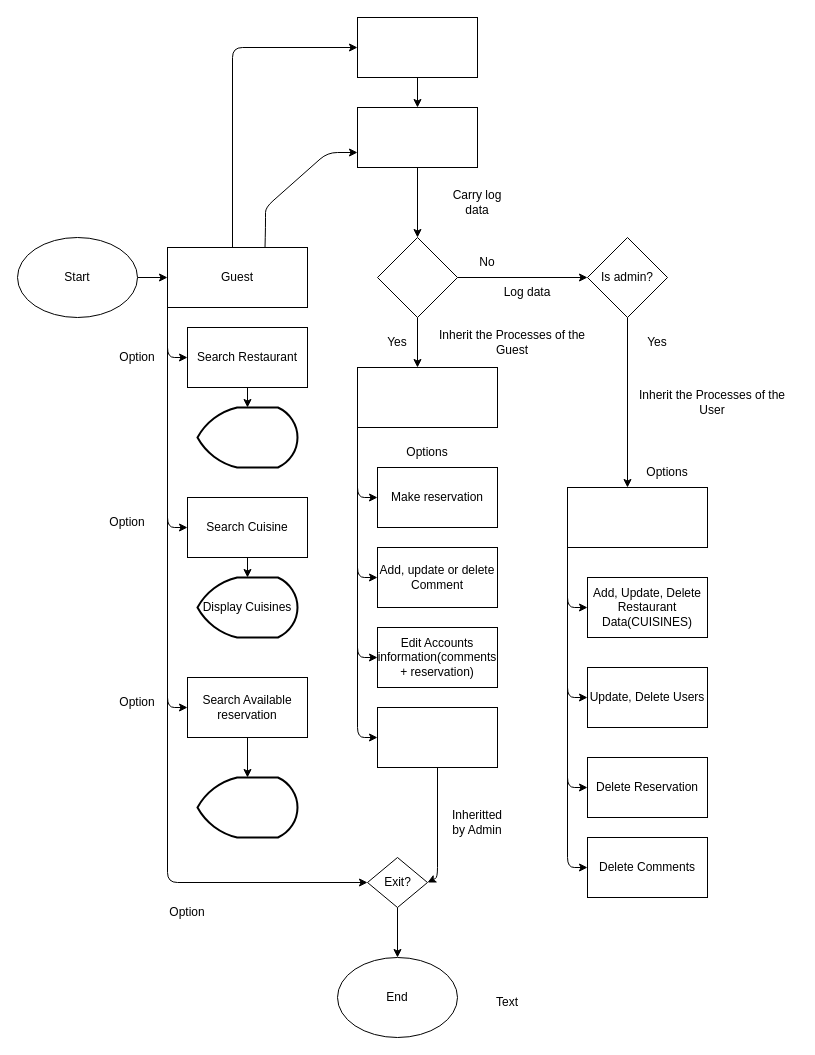
The diagram is 815 pixels wide and 1055 high, and some of its shapes have lost their labels. Each missing label, with the centre of its shape:
"Admin" goes at point (637, 517).
"Display Reservation" goes at point (247, 807).
"Display restaurants" goes at point (247, 437).
"Is user?" goes at point (417, 277).
"Log Out" goes at point (437, 737).
"Login" goes at point (417, 137).
"Register" goes at point (417, 47).
"User" goes at point (427, 397).
